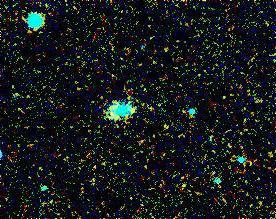star: (151, 106, 181, 136)
